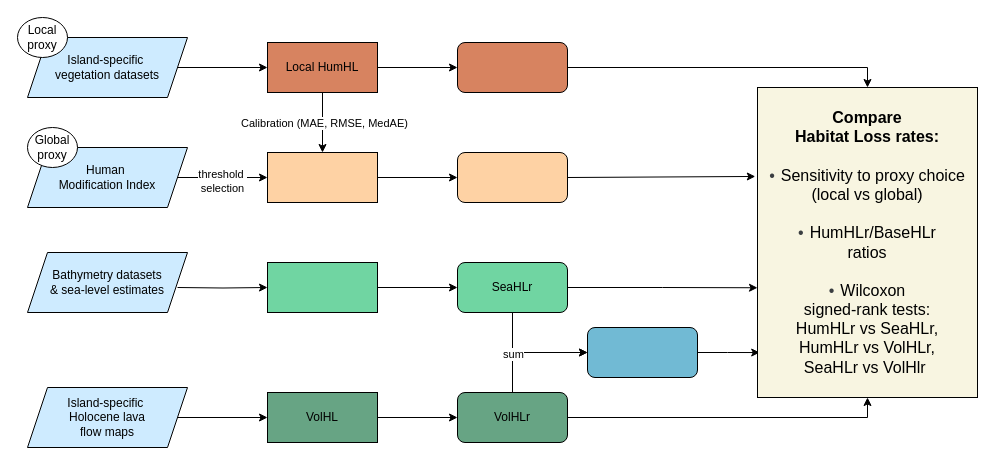
The diagram is 995 pixels wide and 465 high, and some of its shapes have lost their labels. The shapes that lost their labels are listed below. From the top down, each one's centre as x and y in pixels, then its label:
At (x=512, y=67): "Local HumHLr".
At (x=322, y=177): "Calibrated Global HumHL".
At (x=512, y=177): "Global HumHLr".
At (x=322, y=287): "SeaHL".
At (x=642, y=352): "BaseHLr".
